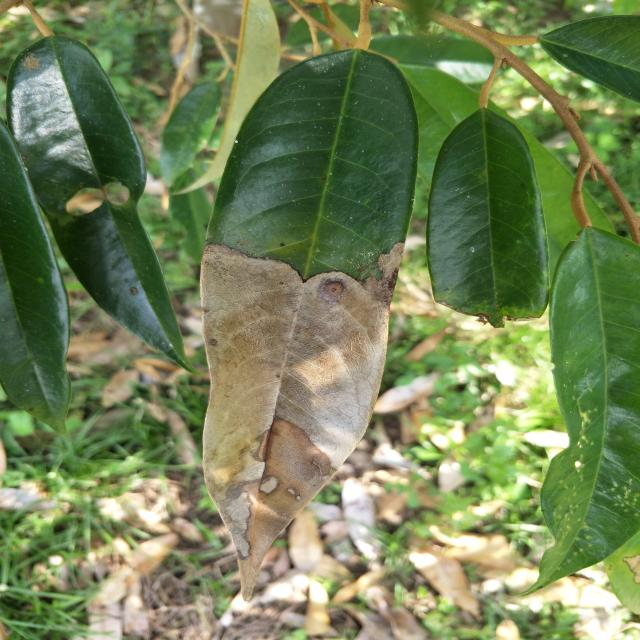Leaf Blight: (172, 214, 406, 597)
